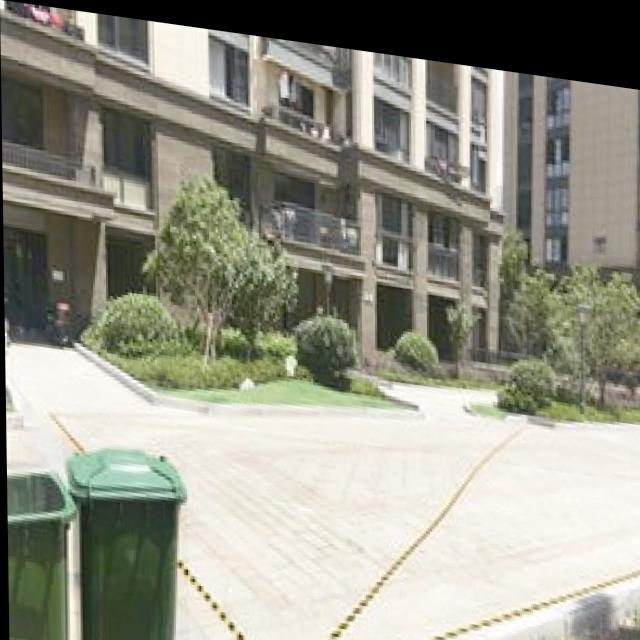garbage_bin: (61, 435, 187, 640), (5, 460, 74, 640)
